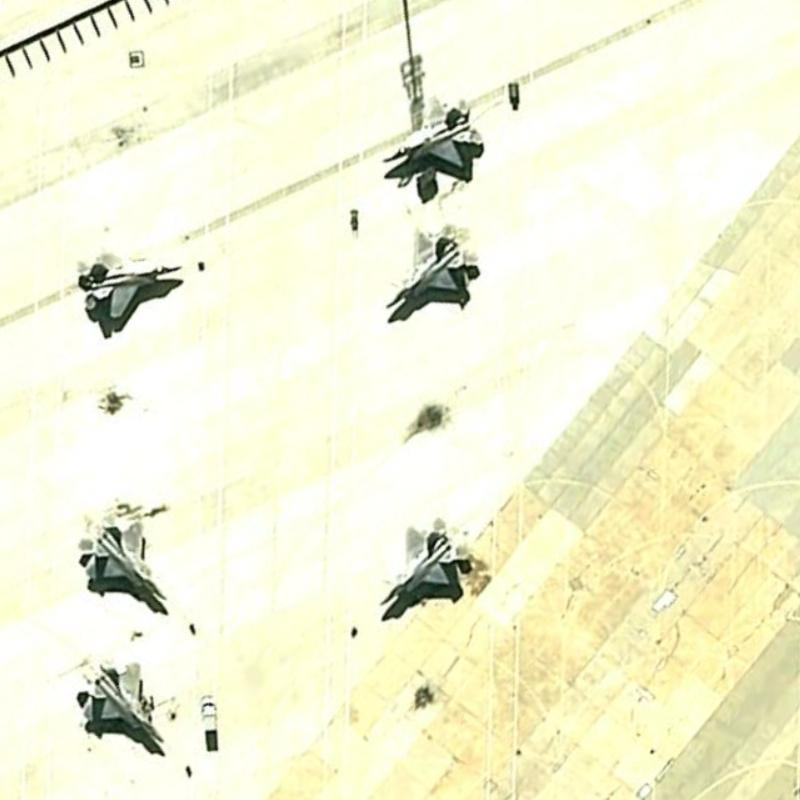A15: (376, 87, 489, 188), (64, 647, 172, 750), (68, 507, 175, 610), (376, 216, 483, 317), (376, 514, 475, 614), (70, 246, 188, 326)
